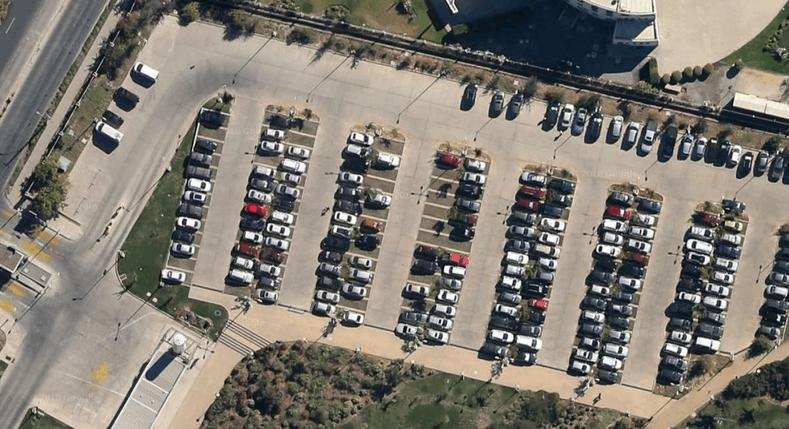parkingspot: (173, 17, 787, 185), (49, 39, 175, 221), (419, 156, 493, 345), (248, 115, 321, 306), (507, 175, 580, 366), (592, 195, 665, 386), (565, 189, 638, 379), (221, 110, 293, 301), (335, 136, 407, 327), (394, 149, 465, 339), (308, 129, 378, 319), (160, 108, 233, 289), (481, 169, 549, 361), (653, 209, 723, 387), (692, 215, 751, 356), (753, 230, 789, 343)
